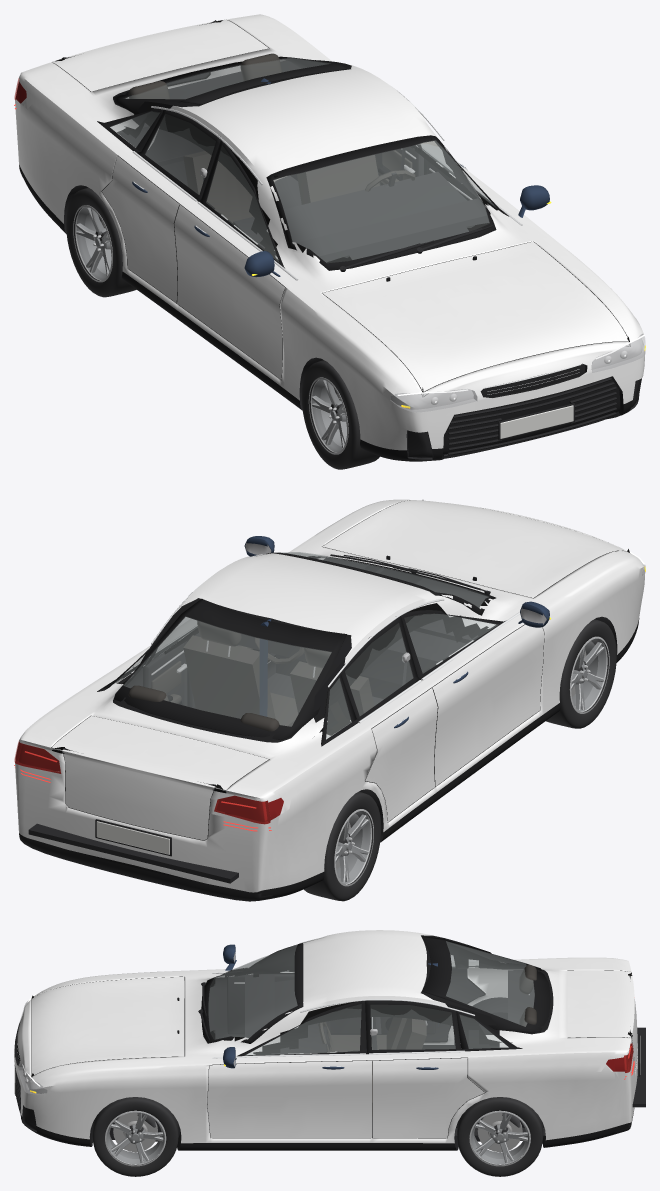
Rendered from sedan.glb.
3 views of the same model, one above another, from view 1: azimuth 30°, elevation 25°; view 2: azimuth 150°, elevation 25°; view 3: azimuth 270°, elevation 25° (orthographic). The views are drawn at different scales.
Parts seen in each view (by area): view 1: body, bonnet_body, glass_windshield, interior, door_FR_body, boot_body, door_RR_body, wheel_FR_mesh, glass_rear, wheel_RR_mesh, door_FR_glass_side_R, door_RR_glass_side_R (+9 smaller); view 2: body, glass_rear, bonnet_body, boot_body, interior, door_FR_body, door_RR_body, wheel_RR_mesh, wheel_FR_mesh, door_RR_glass_side_R, door_FR_glass_side_R, bays (+11 smaller); view 3: body, door_FL_body, bonnet_body, glass_rear, door_RL_body, glass_windshield, interior, wheel_FL_mesh, wheel_RL_mesh, boot_body, door_RL_glass_side_L, door_FL_glass_side_L (+9 smaller).
Part boxes in pixels (x1,y1,x2,y2): body: (15, 14, 645, 461); bonnet_body: (322, 241, 629, 396); glass_windshield: (266, 135, 496, 270); interior: (117, 60, 489, 262); door_FR_body: (174, 201, 285, 380); boot_body: (52, 19, 268, 91); door_RR_body: (101, 156, 196, 303); wheel_FR_mesh: (301, 360, 379, 469); glass_rear: (114, 56, 346, 114); wheel_RR_mesh: (66, 187, 136, 297); door_FR_glass_side_R: (195, 136, 284, 268); door_RR_glass_side_R: (136, 109, 217, 197); body: (15, 499, 645, 901); glass_rear: (114, 598, 346, 740); bonnet_body: (322, 500, 626, 598); boot_body: (52, 716, 269, 840); interior: (183, 619, 478, 735); door_FR_body: (420, 624, 544, 786); door_RR_body: (365, 680, 437, 822); wheel_RR_mesh: (304, 791, 381, 901); wheel_FR_mesh: (546, 619, 616, 728); door_RR_glass_side_R: (338, 618, 416, 722); door_FR_glass_side_R: (397, 610, 505, 681); bays: (28, 568, 488, 883); body: (14, 930, 637, 1150); door_FL_body: (207, 1054, 372, 1138); bonnet_body: (31, 976, 184, 1080); glass_rear: (421, 936, 550, 1033); door_RL_body: (370, 1052, 484, 1138); glass_windshield: (201, 943, 303, 1043); interior: (245, 970, 545, 1135); wheel_FL_mesh: (92, 1097, 178, 1176); wheel_RL_mesh: (457, 1097, 543, 1176); boot_body: (567, 970, 637, 1070); door_RL_glass_side_L: (370, 1000, 468, 1052); door_FL_glass_side_L: (237, 1000, 372, 1056).
Bounding box in the file's own units: 2.1 × 1.45 × 4.91.
